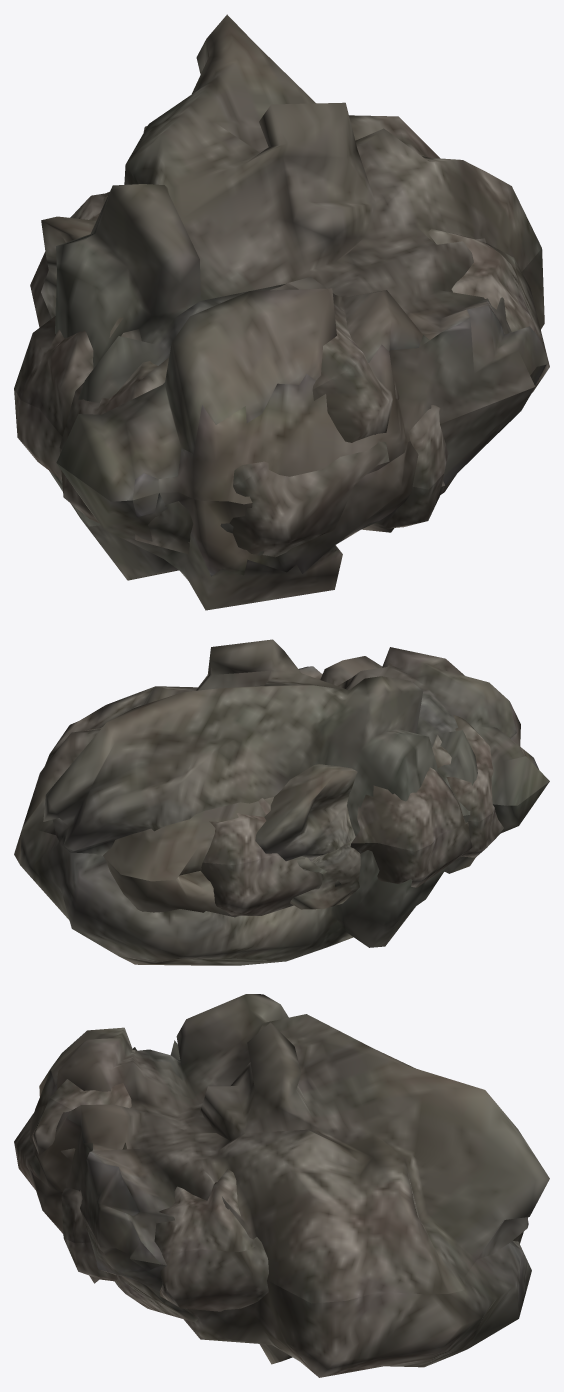
Rendered from SM_pal_b00_Rock_MineableRocks_GroundRevealRock_Cliff_40ac28.glb.
The picture shows the model from 3 angles, top to bottom: view 1: azimuth 30°, elevation 25°; view 2: azimuth 150°, elevation 25°; view 3: azimuth 270°, elevation 25°; orthographic projection. The views are drawn at different scales.
Bounding box in the file's own units: 3.68 × 2.73 × 3.9.
Materials: 1 (1 with a texture image).
